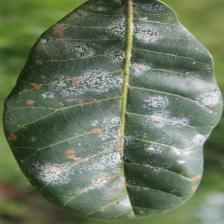red rust: (2, 0, 224, 220)
